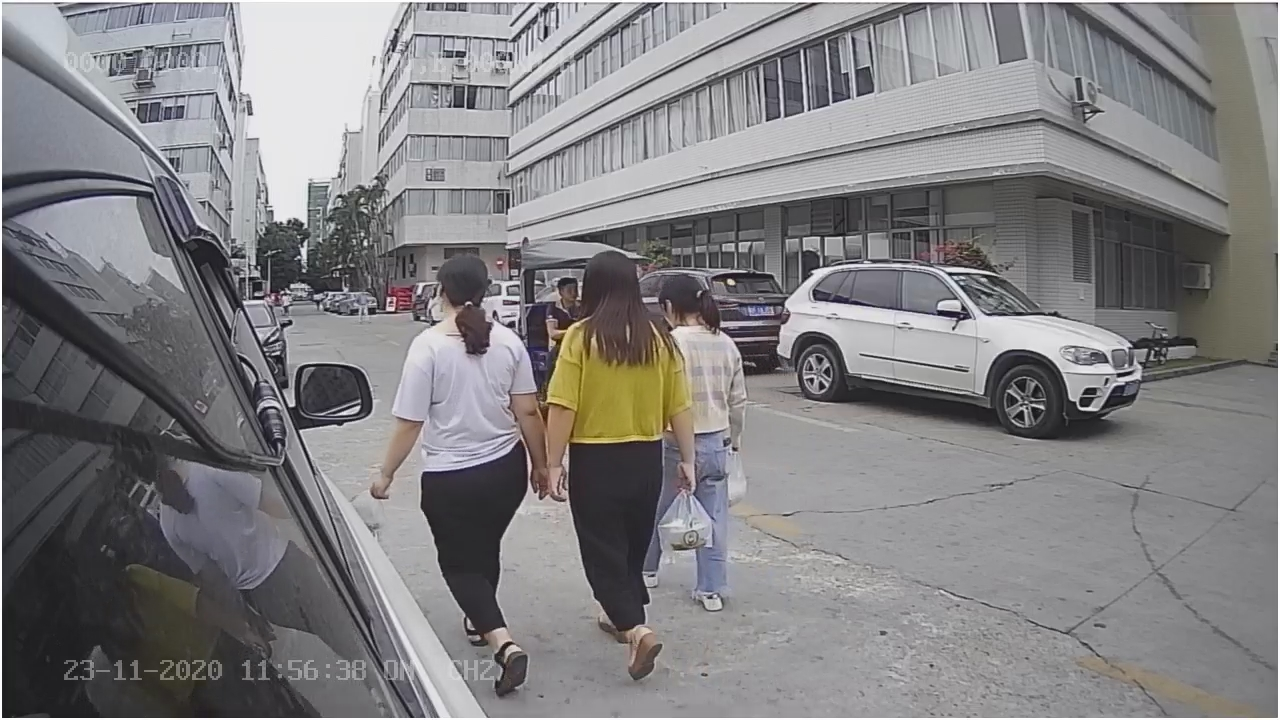person: (362, 242, 544, 699), (546, 254, 696, 699)
